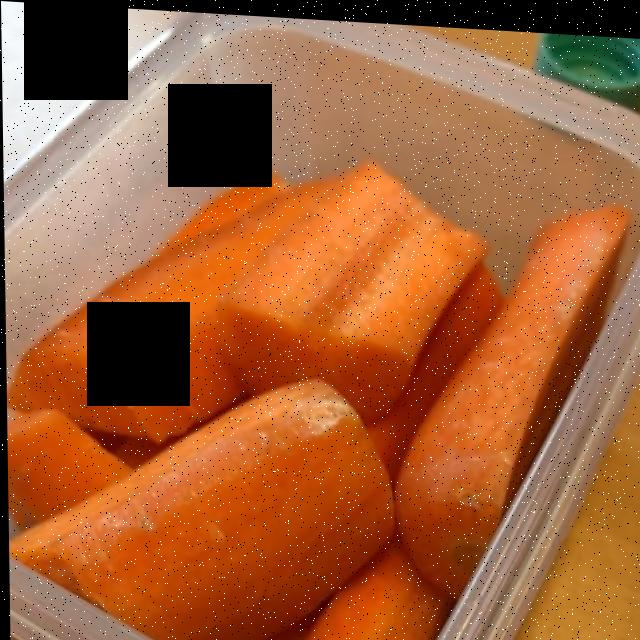carrot-raw: (25, 165, 626, 640)
